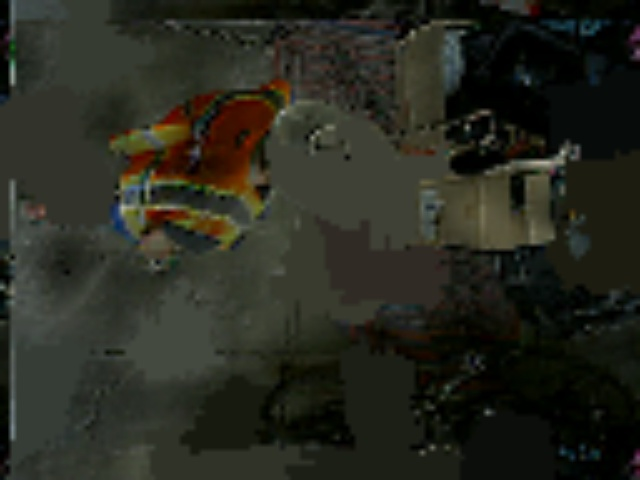one: (307, 125, 354, 166)
